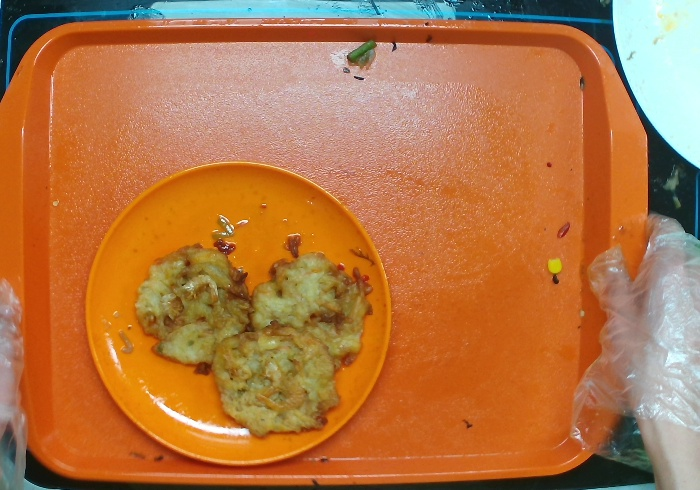HZYJPL-Ju_Huang_Yuan_Pan: (83, 161, 393, 473)
